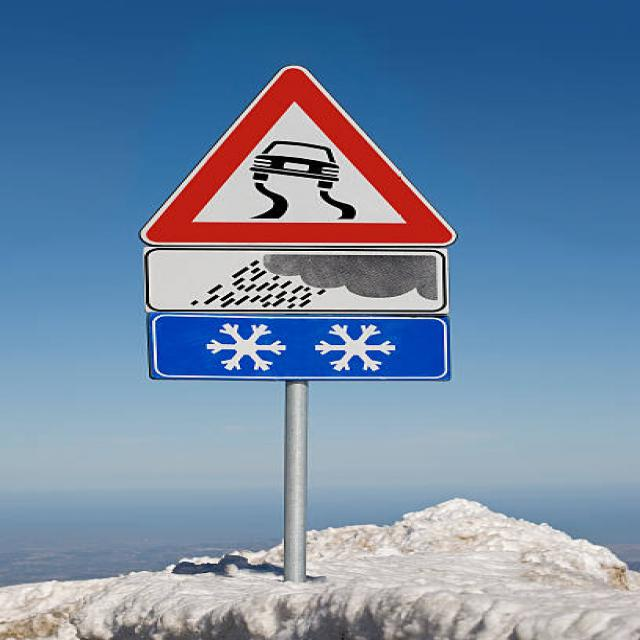road_slippery: (124, 62, 470, 252)
